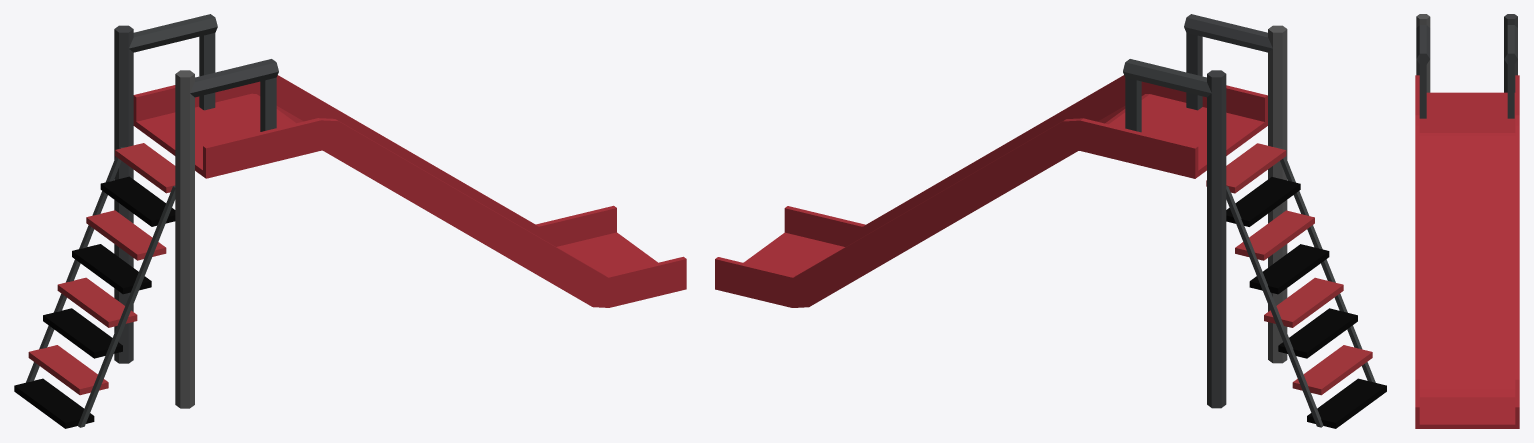
Rendered from Slide 2.fbx.
The picture shows the model from 3 angles, left to right: view 1: azimuth 30°, elevation 25°; view 2: azimuth 150°, elevation 25°; view 3: azimuth 270°, elevation 25°; orthographic projection. The views are drawn at different scales.
Parts seen in each view (by area): view 1: Cube.008, Cylinder.003, Cylinder, Cylinder.001, Cylinder.002, Cube.010, Cube, Cube.001, Cube.002, Cube.003, Cube.005, Cube.004 (+3 smaller); view 2: Cube.008, Cylinder, Cylinder.003, Cylinder.002, Cylinder.001, Cube.009, Cube.001, Cube, Cube.002, Cube.004, Cube.003, Cube.005 (+3 smaller); view 3: Cube.008, Cylinder.002, Cylinder.001, Cylinder.003, Cylinder.
Part boxes in pixels (x1,y1,x2,y2): Cube.008: [133, 75, 686, 307]; Cylinder.003: [175, 70, 194, 408]; Cylinder: [114, 25, 133, 363]; Cylinder.001: [129, 14, 217, 110]; Cylinder.002: [190, 59, 278, 131]; Cube.010: [77, 186, 175, 427]; Cube: [14, 378, 94, 428]; Cube.001: [28, 345, 108, 395]; Cube.002: [43, 308, 122, 358]; Cube.003: [57, 277, 137, 327]; Cube.005: [86, 210, 166, 260]; Cube.004: [72, 244, 151, 294]; Cube.008: [715, 75, 1267, 307]; Cylinder: [1207, 70, 1226, 408]; Cylinder.003: [1268, 25, 1287, 363]; Cylinder.002: [1184, 14, 1272, 110]; Cylinder.001: [1123, 59, 1211, 132]; Cube.009: [1226, 186, 1323, 427]; Cube.001: [1292, 345, 1372, 395]; Cube: [1307, 378, 1386, 428]; Cube.002: [1278, 308, 1357, 358]; Cube.004: [1249, 244, 1329, 294]; Cube.003: [1264, 277, 1343, 327]; Cube.005: [1235, 210, 1314, 260]; Cube.008: [1415, 75, 1519, 428]; Cylinder.002: [1416, 25, 1430, 118]; Cylinder.001: [1504, 25, 1517, 118]; Cylinder.003: [1416, 14, 1430, 92]; Cylinder: [1504, 14, 1517, 92].
Bounding box in the file's own units: 4239 × 2206 × 875.
